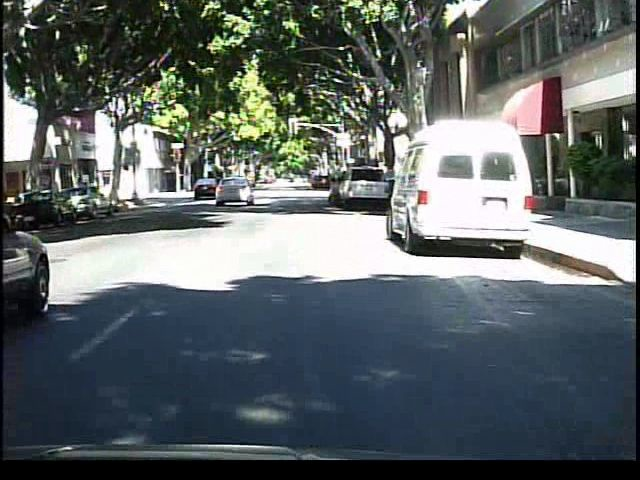person: (233, 172, 255, 206)
